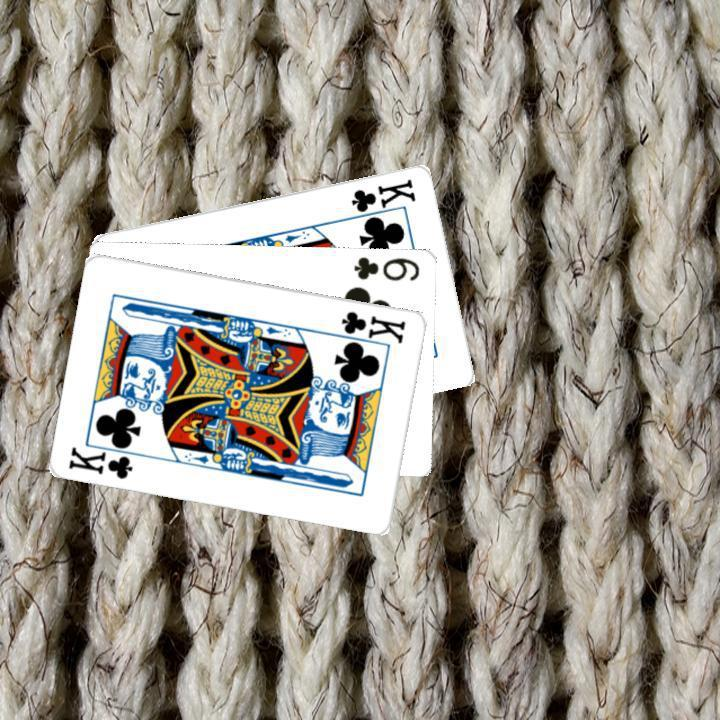6: (350, 251, 422, 283)
K: (65, 436, 146, 481), (344, 174, 418, 222), (328, 306, 408, 350)
